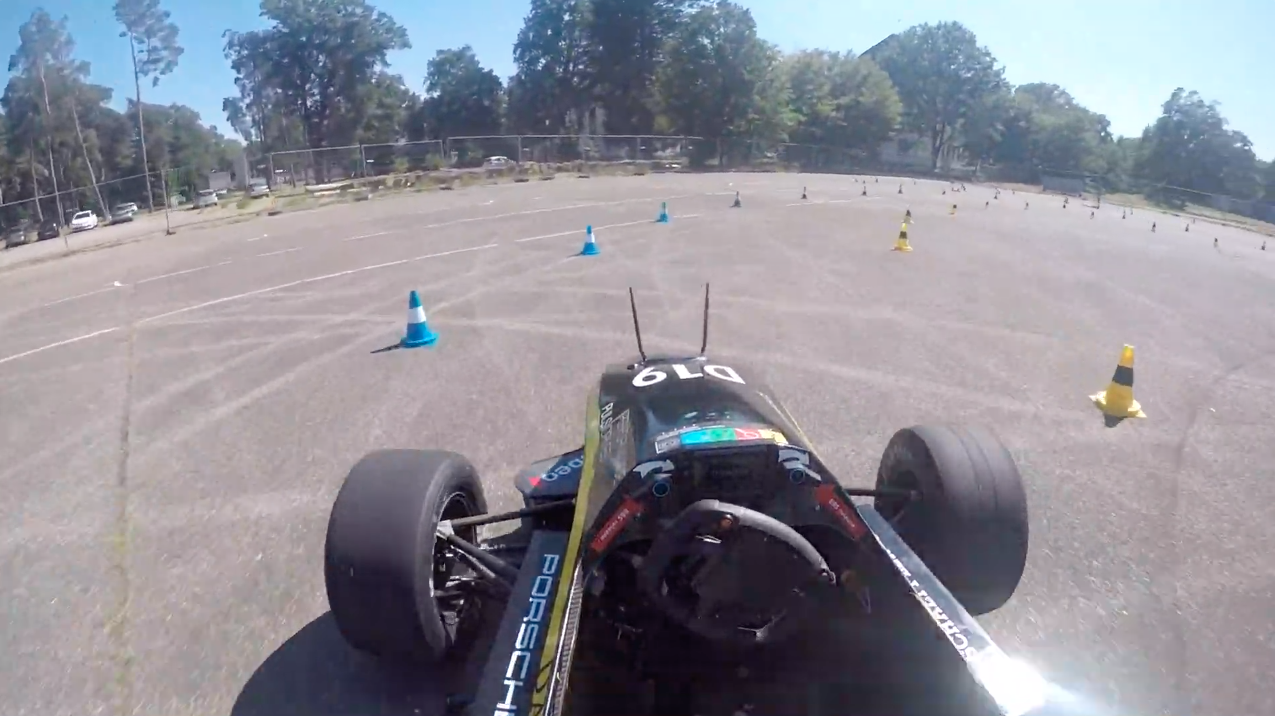lcone: (390, 289, 443, 349), (578, 223, 604, 257), (654, 199, 674, 225)
rcone: (1085, 341, 1152, 422), (891, 221, 916, 255)
